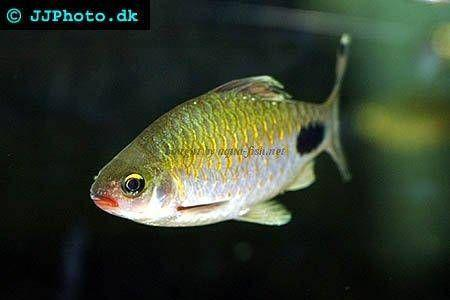Black Spotted Barb: (86, 36, 356, 228)
